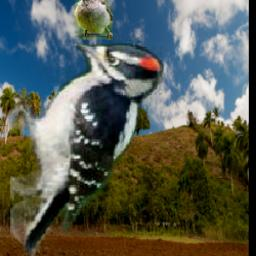Sparrow: (76, 0, 114, 41)
Woodpecker: (10, 36, 164, 256)
